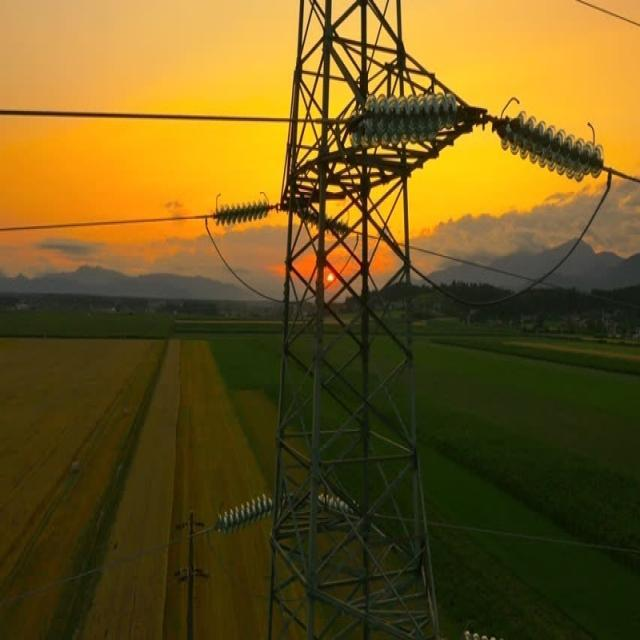non-critical vegetation: (267, 47, 480, 618)
